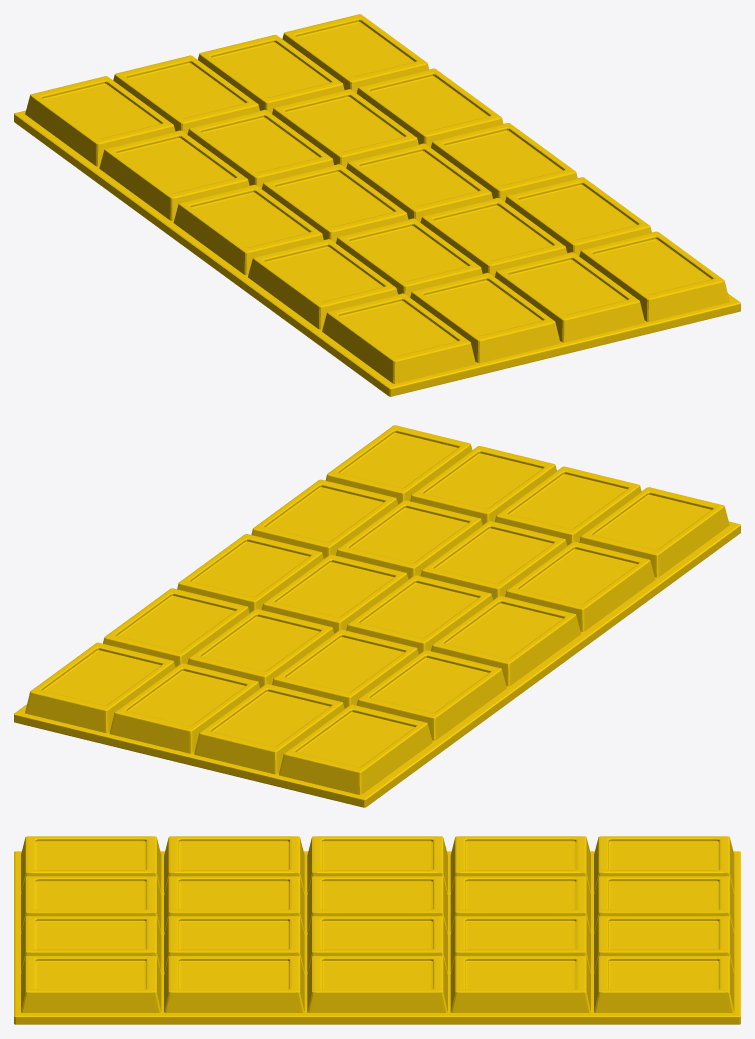
Rendered from sarı çikolata.fbx.
The picture shows the model from 3 angles, top to bottom: view 1: azimuth 30°, elevation 25°; view 2: azimuth 150°, elevation 25°; view 3: azimuth 270°, elevation 25°; orthographic projection. The views are drawn at different scales.
Visible parts, largest first — view 1: dark brown; view 2: dark brown; view 3: dark brown.
Boxes of the visible parts, x1,y1,x2,y2 form: dark brown: (14, 14, 740, 396); dark brown: (14, 425, 740, 807); dark brown: (14, 836, 740, 1024).
Size of the model in its own units: 416 by 33.09 by 771.
